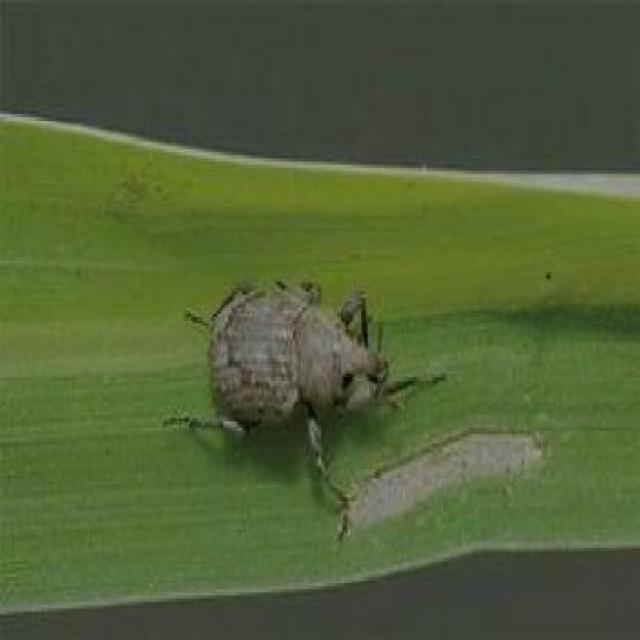rice-bug: (185, 266, 392, 509)
